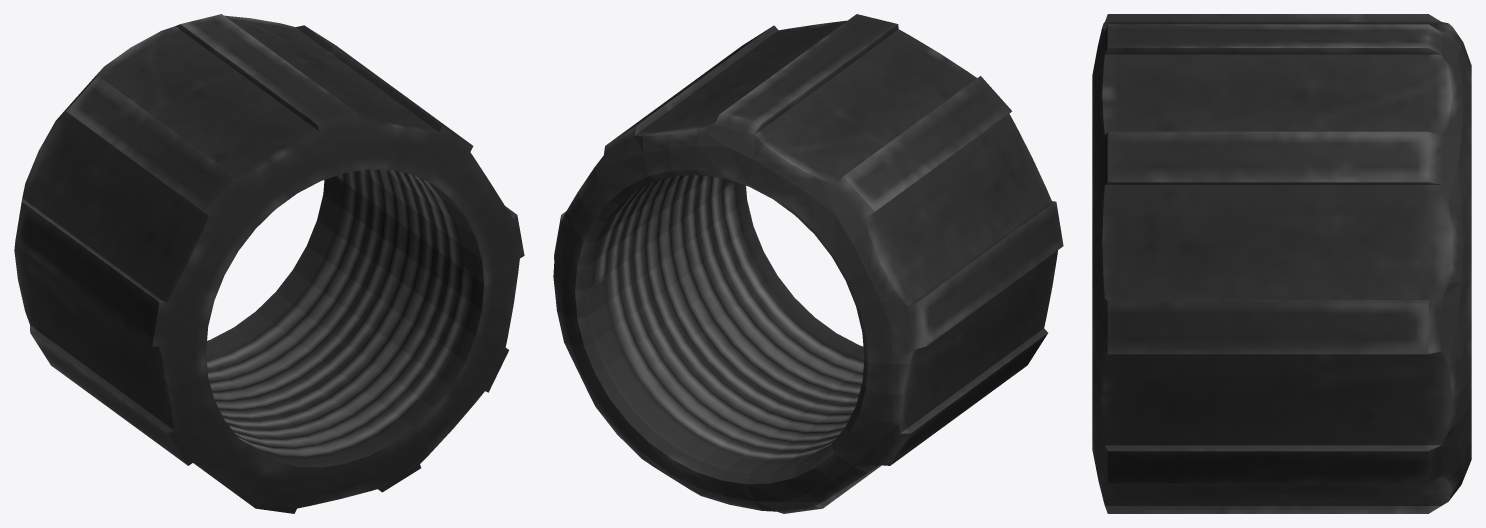
3 renders of one model, left to right at view 1: azimuth 30°, elevation 25°; view 2: azimuth 150°, elevation 25°; view 3: azimuth 270°, elevation 25°, orthographic. The views are drawn at different scales.
Visible parts, largest first — view 1: TW_5d270b3c8abbc3105335cfb8_PZ_Import; view 2: TW_5d270b3c8abbc3105335cfb8_PZ_Import; view 3: TW_5d270b3c8abbc3105335cfb8_PZ_Import.
Part boxes in pixels (<box>): TW_5d270b3c8abbc3105335cfb8_PZ_Import: <box>14,14,524,513</box>; TW_5d270b3c8abbc3105335cfb8_PZ_Import: <box>553,14,1063,513</box>; TW_5d270b3c8abbc3105335cfb8_PZ_Import: <box>1092,14,1471,513</box>.
Bounding box in the file's own units: 0.0115 × 0.00866 × 0.0113.
1 material, 1 textured.
